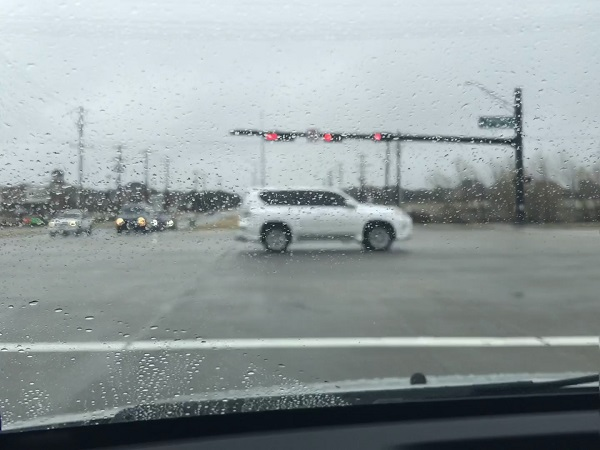car: (235, 187, 414, 255), (49, 207, 94, 237), (114, 205, 149, 231), (153, 211, 179, 232)
